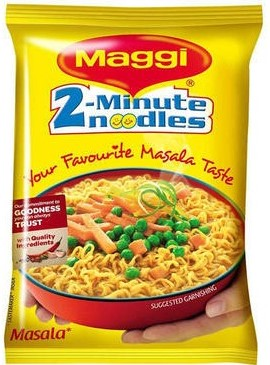maggi: (7, 5, 257, 363)
